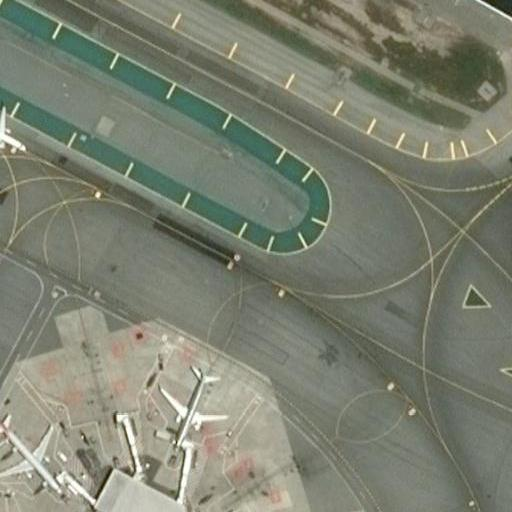Aircraft: (158, 361, 229, 450), (0, 412, 62, 495), (0, 104, 29, 159)
